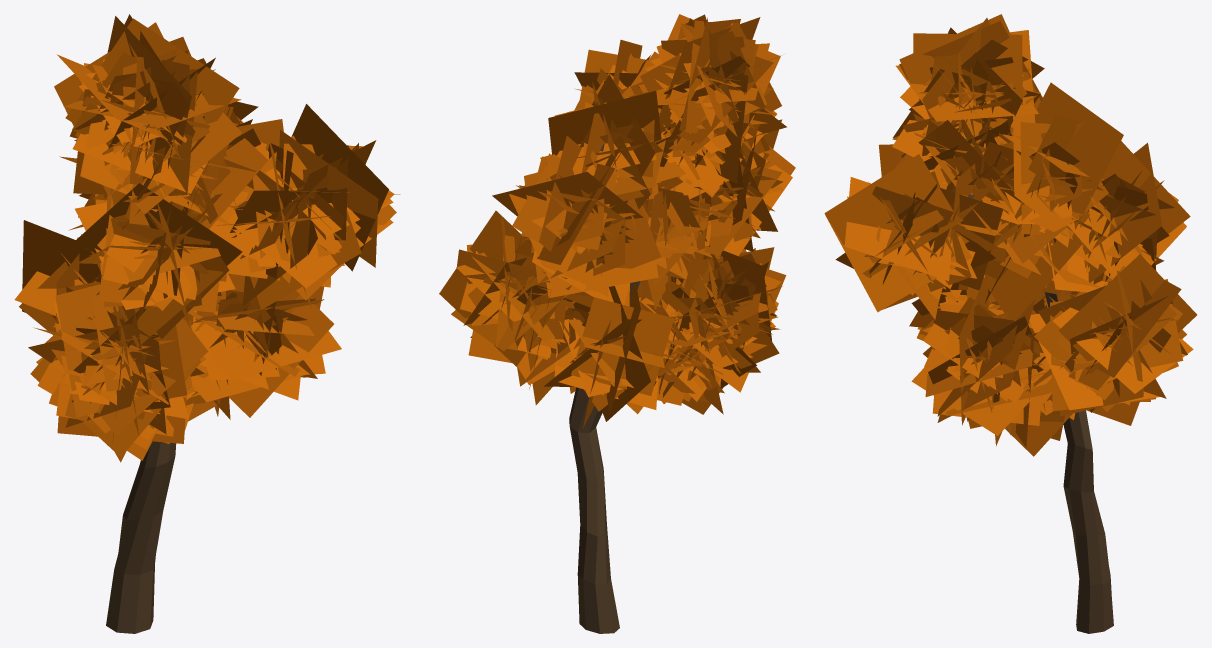
File: bigTree.fbx
3 renders of one model, left to right at view 1: azimuth 30°, elevation 25°; view 2: azimuth 150°, elevation 25°; view 3: azimuth 270°, elevation 25°, orthographic. The views are drawn at different scales.
Visible parts, largest first — view 1: leavesBig, bigTreeTrunk; view 2: leavesBig, bigTreeTrunk; view 3: leavesBig, bigTreeTrunk.
Part boxes in pixels (x1,y1,x2,y2): leavesBig: (14, 14, 400, 462); bigTreeTrunk: (106, 441, 176, 633); leavesBig: (439, 14, 795, 428); bigTreeTrunk: (569, 144, 640, 633); leavesBig: (824, 14, 1196, 456); bigTreeTrunk: (968, 194, 1113, 633).
Size of the model in its own units: 87.52 by 186 by 107.
